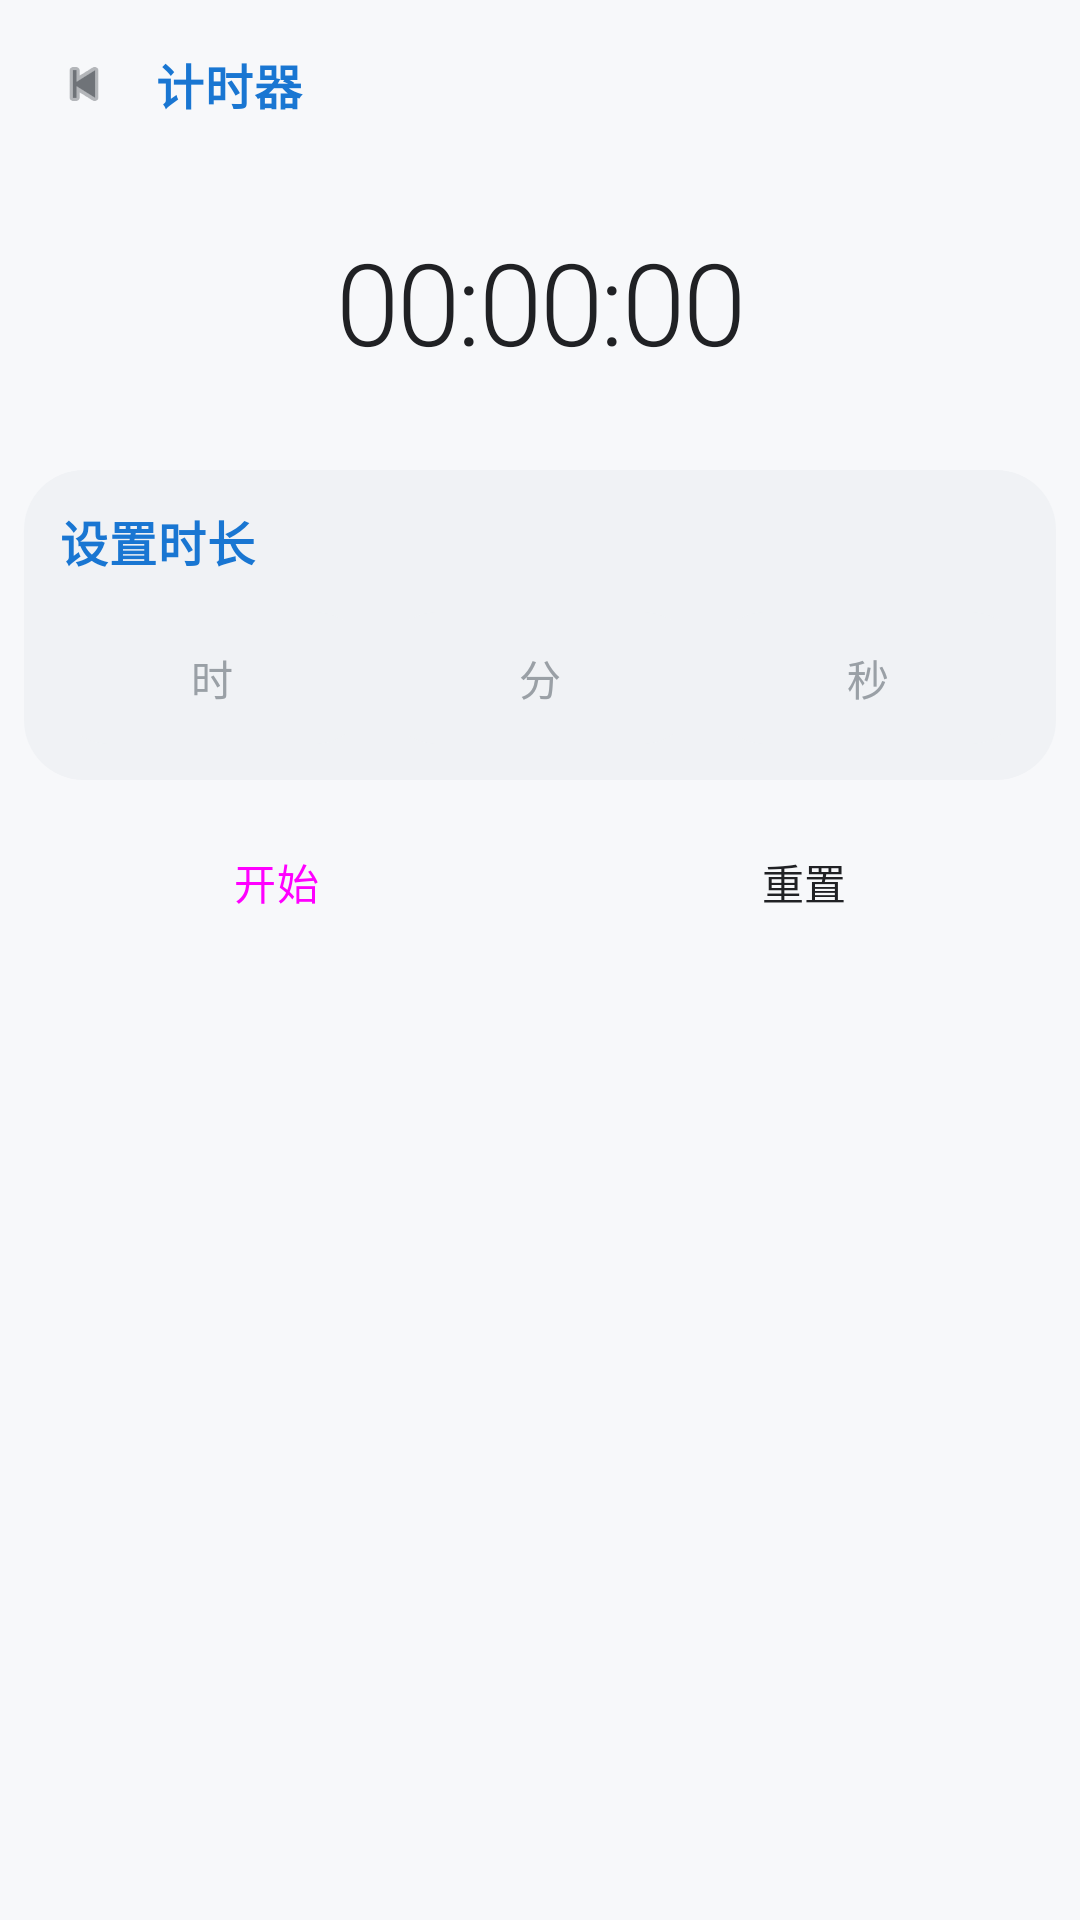

Locate icon controls on the screen. Image size 1080x1920, boxes as [x1, y1, x2, y2].
返回: [70, 67, 98, 101]
